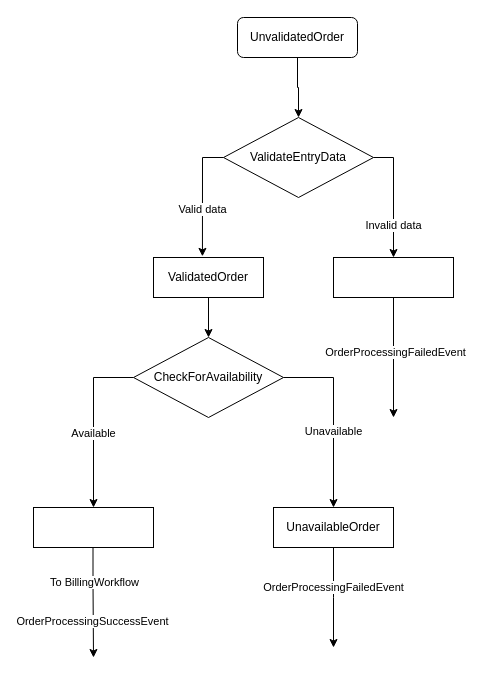
Image size: 483x683. Some labels were removed from this diagram. The centre of each missing label's shape, as x and y in pixels:
"AvailableOrder" goes at point (93, 527).
"InvalidatedOrder" goes at point (393, 277).
